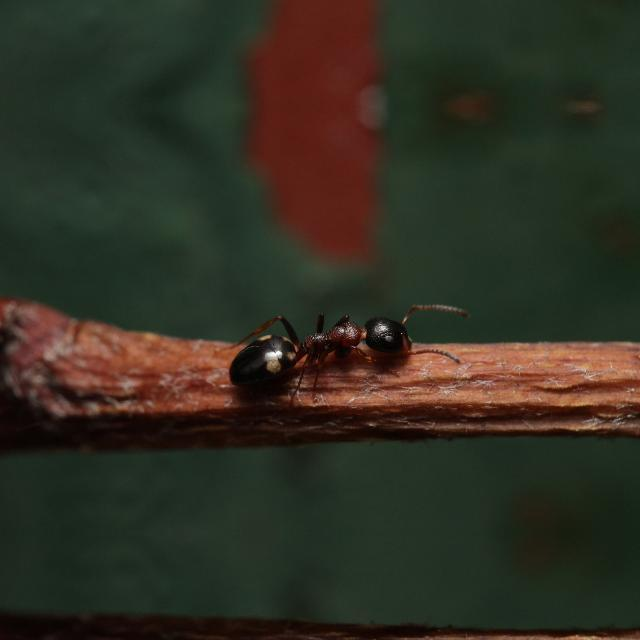Dolichoderus: (206, 289, 448, 399)
